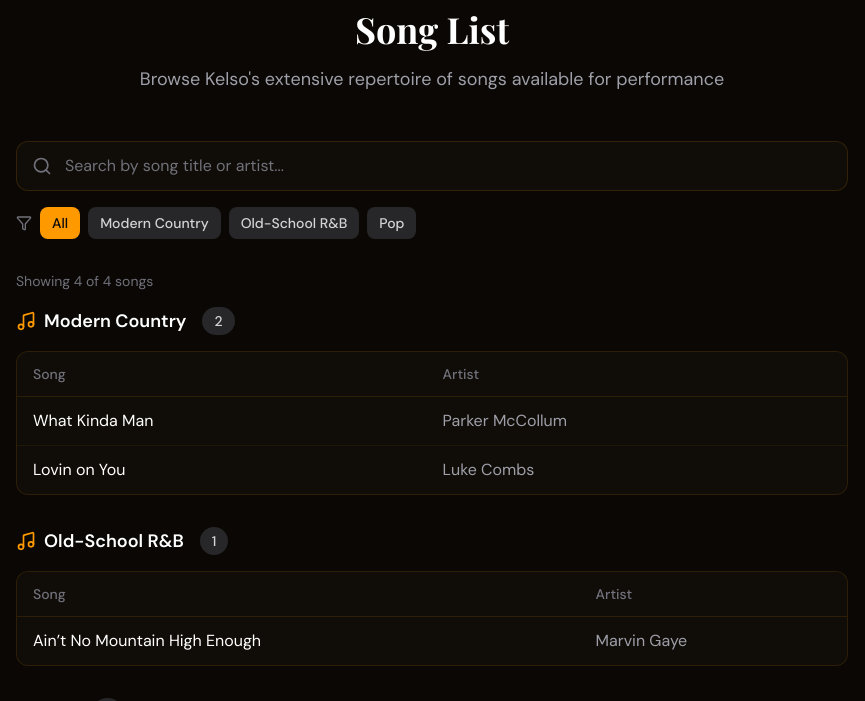
Test: SongsClient › filters by selected genre
What coordinates should you click on to do the following:
click the button "Old-School R&B"
I would click on:
 (294, 223)
Its box is top-left (229, 207), bottom-right (359, 239).
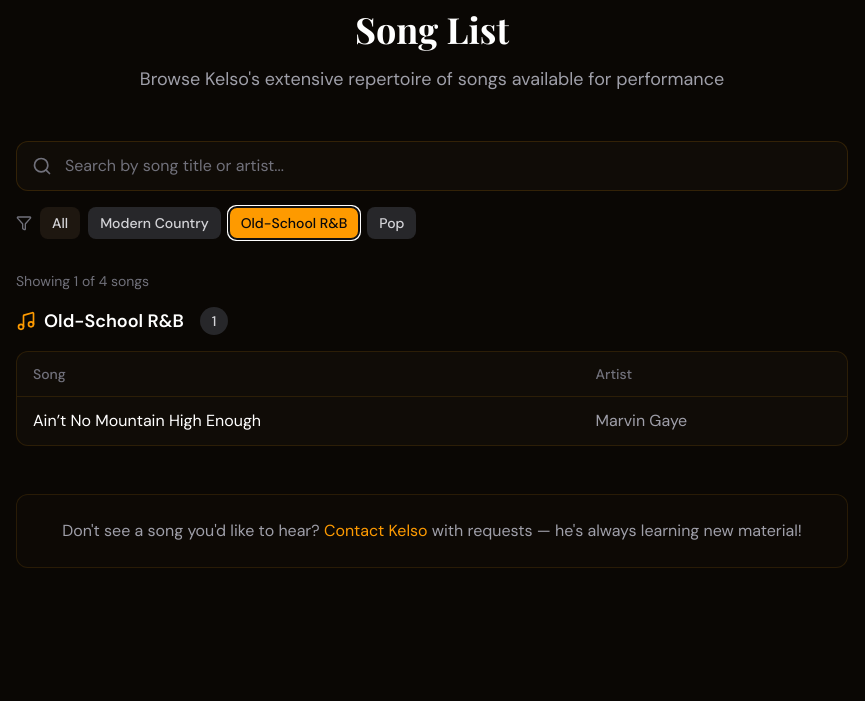
Check: the text "Ain’t No Mountain High Enough" is shown, box top-left (17, 396), bottom-right (580, 445)
Check: the text "Showing 1 of 4 songs" is shown, box top-left (16, 272), bottom-right (149, 290)
